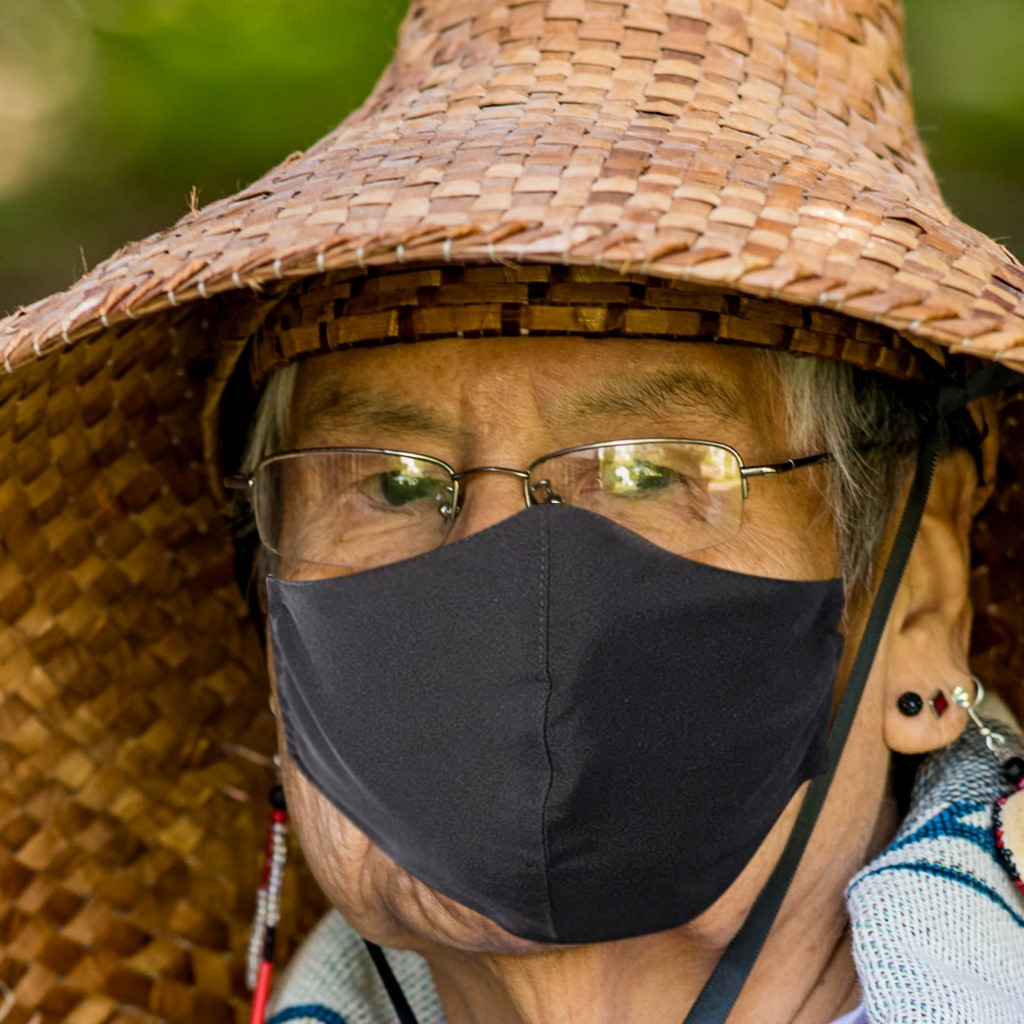con_mascara: (270, 320, 892, 939)
